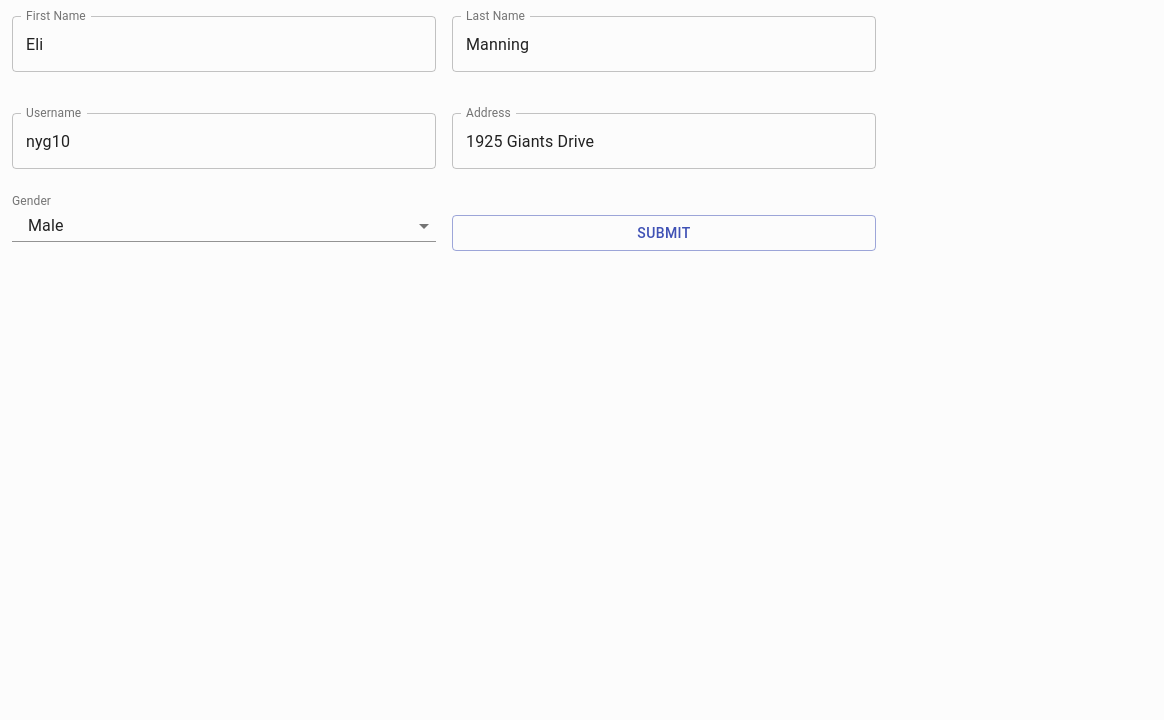
Test: UserForm › updates an existing user
Replace the text in the field named "username" next to "Username" with "emanning10" at (224, 141), box [12,113,436,169]
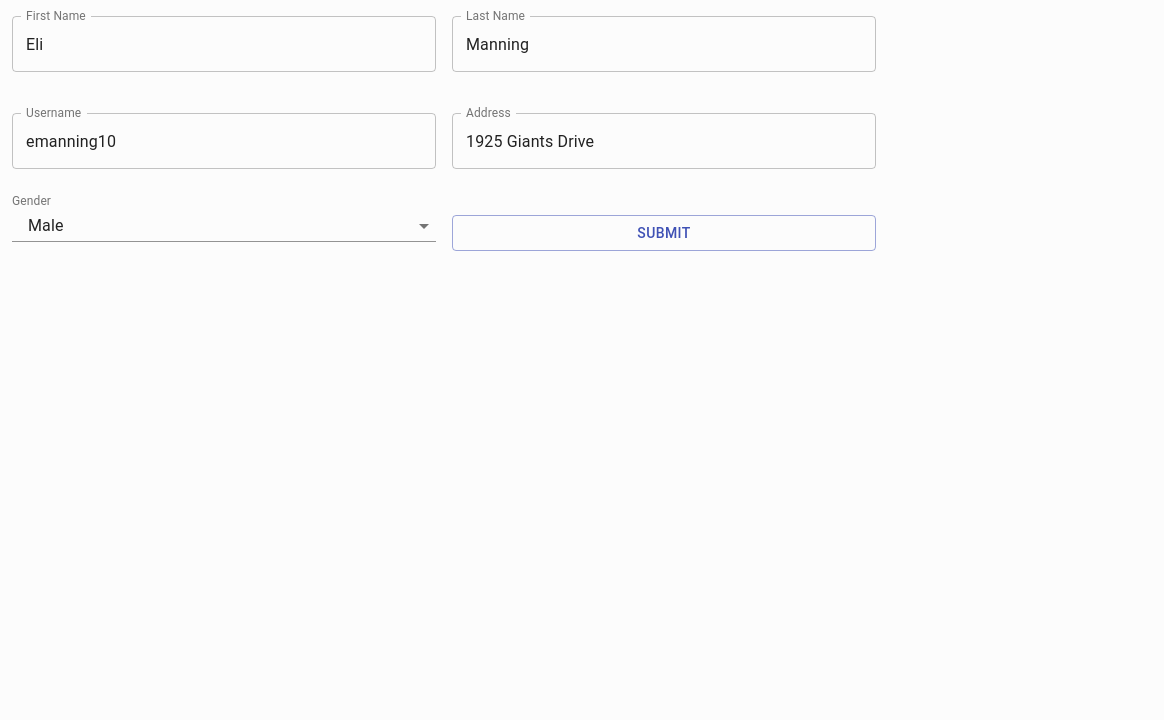
Click the button "Submit" at (664, 233), box [452,214,876,251]
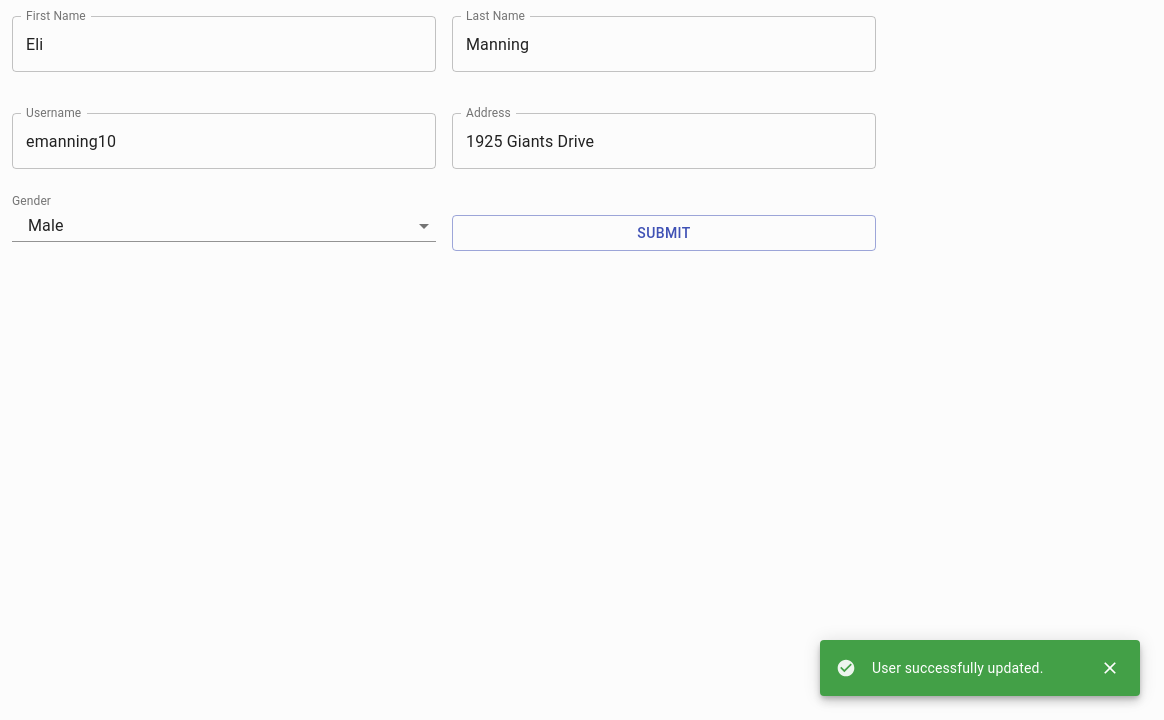
Check: the text "User successfully updated." is shown, box [836,658,1044,678]
